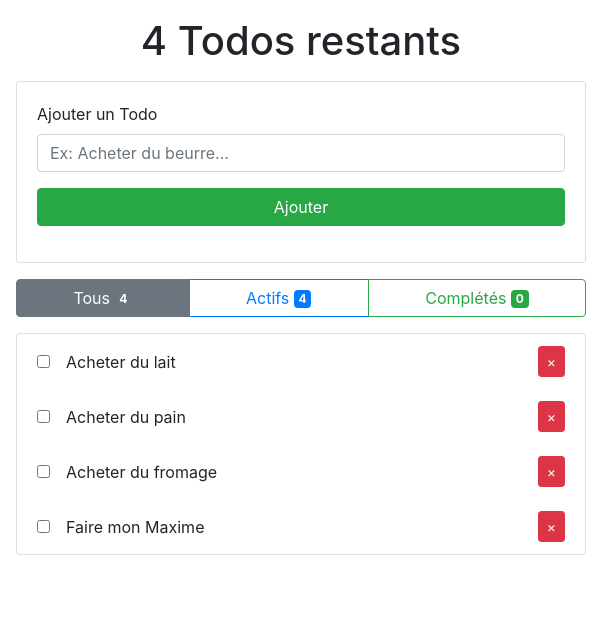
Test: Ajout d'un todo › le compteur dans le titre augmente après un ajout
The image size is (603, 627).
Expected: the heading "4 Todos restants" is shown, [141,16,461,65]
Type "Cinquième todo" into the field labelled "Ajouter un Todo". click: [301, 153]
box: [37,134,565,172]
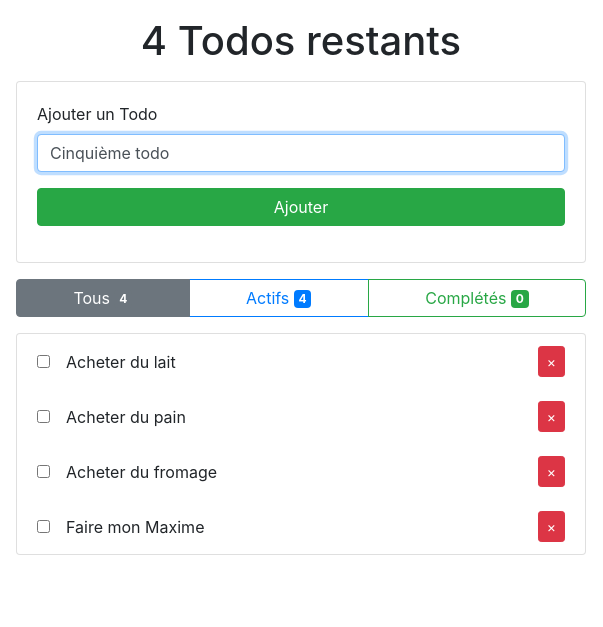
Click the button "Ajouter". click: [301, 207]
box: [37,188,565,226]
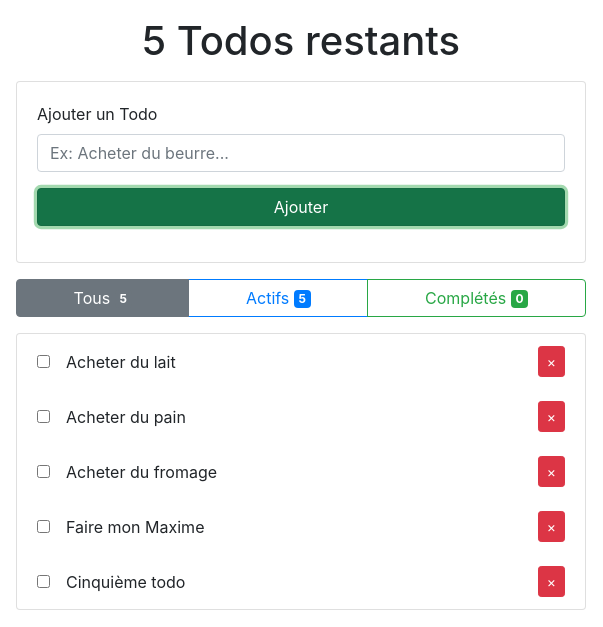
Now the heading "5 Todos restants" is shown, box [142,16,460,65]
